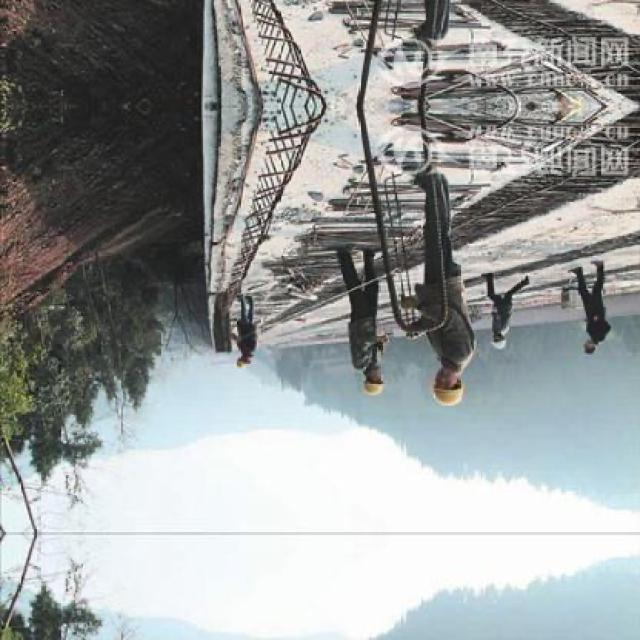con casco: (393, 346, 480, 424), (347, 343, 412, 406), (218, 315, 262, 379)
